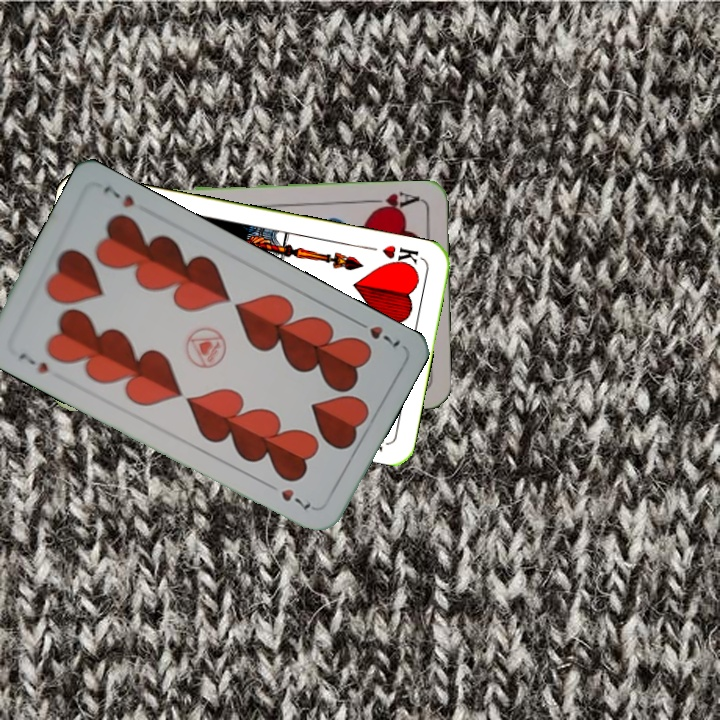H7: (350, 315, 403, 350), (15, 348, 52, 377)
HA: (363, 188, 422, 215)
HK: (378, 241, 425, 272)
